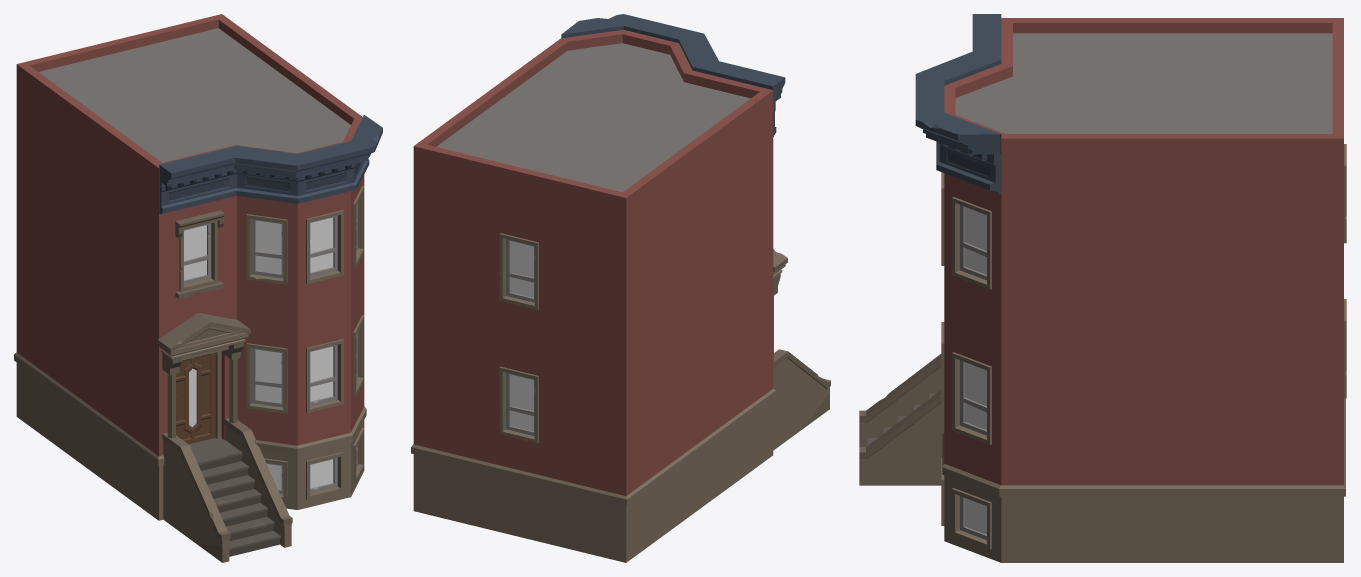
File: SM_Bldg_City_Apartment_T2_2Floor_02.fbx
3 renders of one model, left to right at view 1: azimuth 30°, elevation 25°; view 2: azimuth 150°, elevation 25°; view 3: azimuth 270°, elevation 25°, orthographic. The views are drawn at different scales.
Visible parts, largest first — view 1: SM_Bldg_City_Apartment_T2_2Floor_02, SM_Bldg_City_Apartment_T2_2Floor_02_Glass, SM_Bldg_City_Apartment_T2_2Floor_02_Door; view 2: SM_Bldg_City_Apartment_T2_2Floor_02, SM_Bldg_City_Apartment_T2_2Floor_02_Glass; view 3: SM_Bldg_City_Apartment_T2_2Floor_02, SM_Bldg_City_Apartment_T2_2Floor_02_Glass.
Part boxes in pixels (x1,y1,x2,y2): SM_Bldg_City_Apartment_T2_2Floor_02: (14, 14, 382, 562); SM_Bldg_City_Apartment_T2_2Floor_02_Glass: (184, 217, 333, 489); SM_Bldg_City_Apartment_T2_2Floor_02_Door: (176, 352, 215, 444); SM_Bldg_City_Apartment_T2_2Floor_02: (411, 14, 830, 562); SM_Bldg_City_Apartment_T2_2Floor_02_Glass: (510, 241, 534, 431); SM_Bldg_City_Apartment_T2_2Floor_02: (859, 14, 1346, 562); SM_Bldg_City_Apartment_T2_2Floor_02_Glass: (965, 207, 986, 534).
Size of the model in its own units: 508 by 828 by 854.
